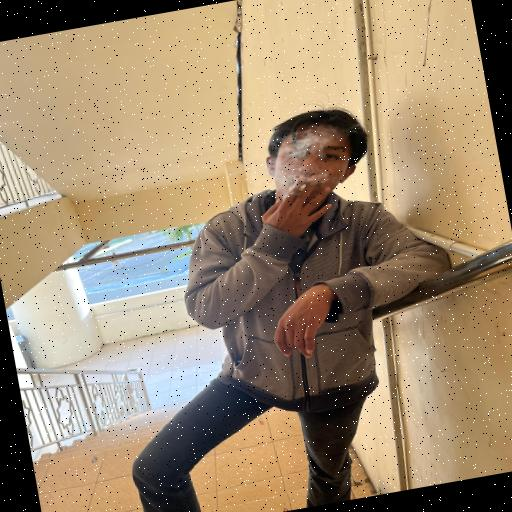terdeteksi merokok: (266, 126, 348, 212)
